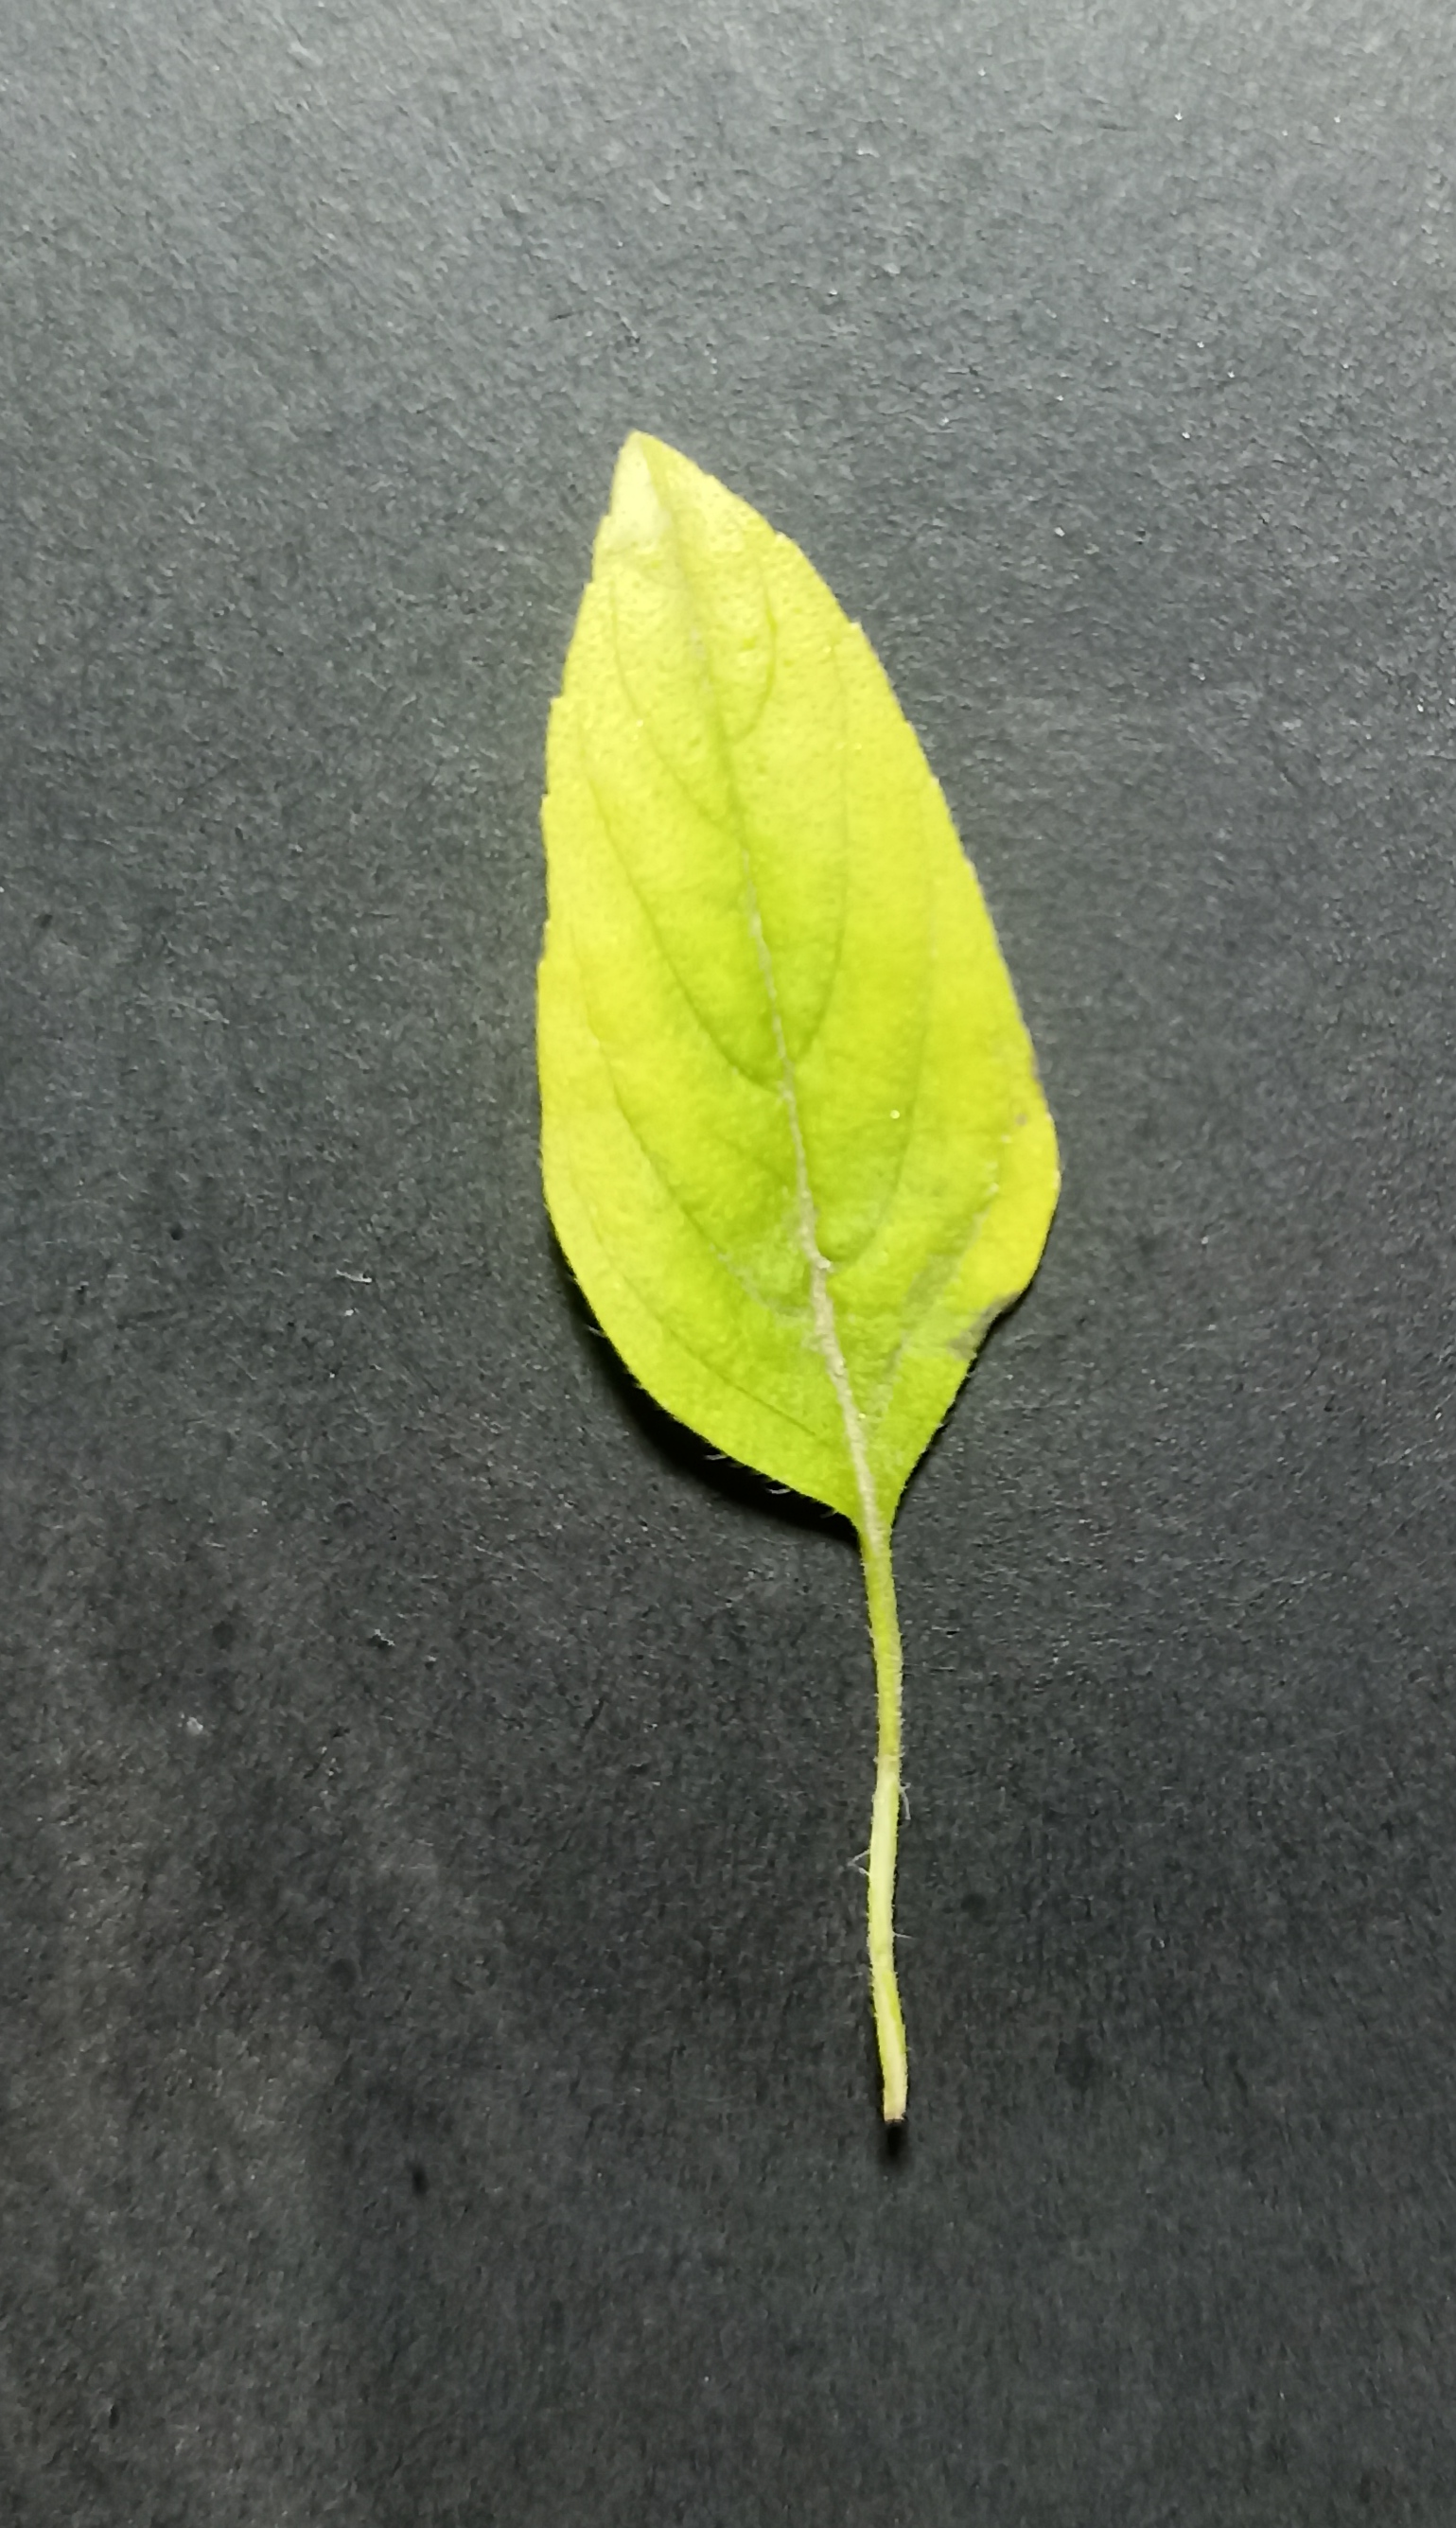Healthy: (488, 424, 1078, 1512)
